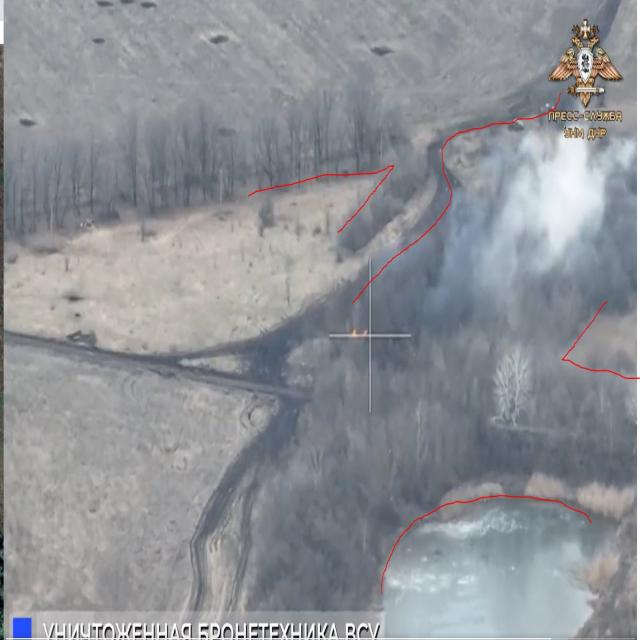destroyed: (350, 327, 368, 346)
